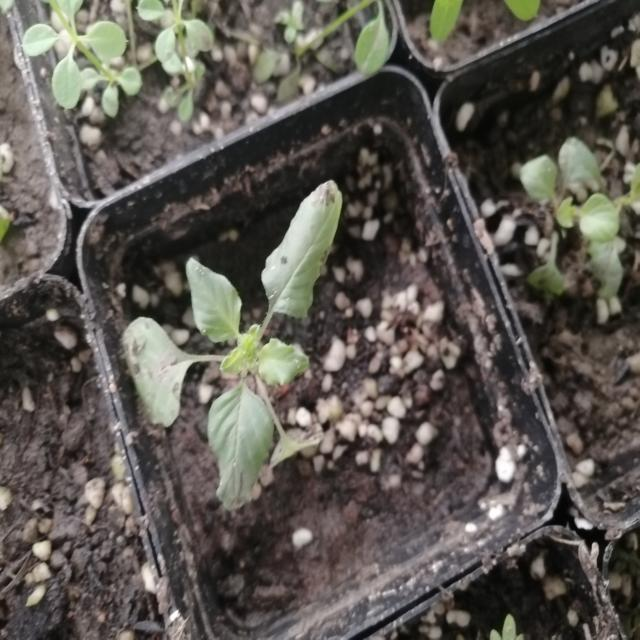pigweed: (130, 176, 342, 507)
